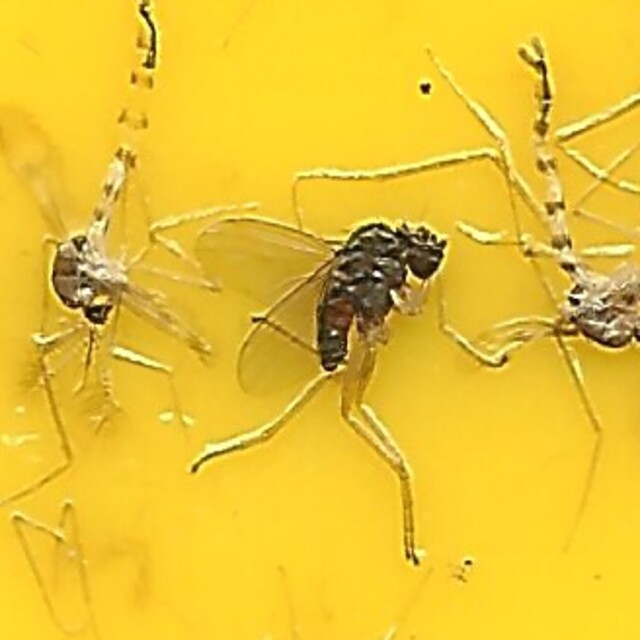Brachycera: (195, 215, 445, 425)
